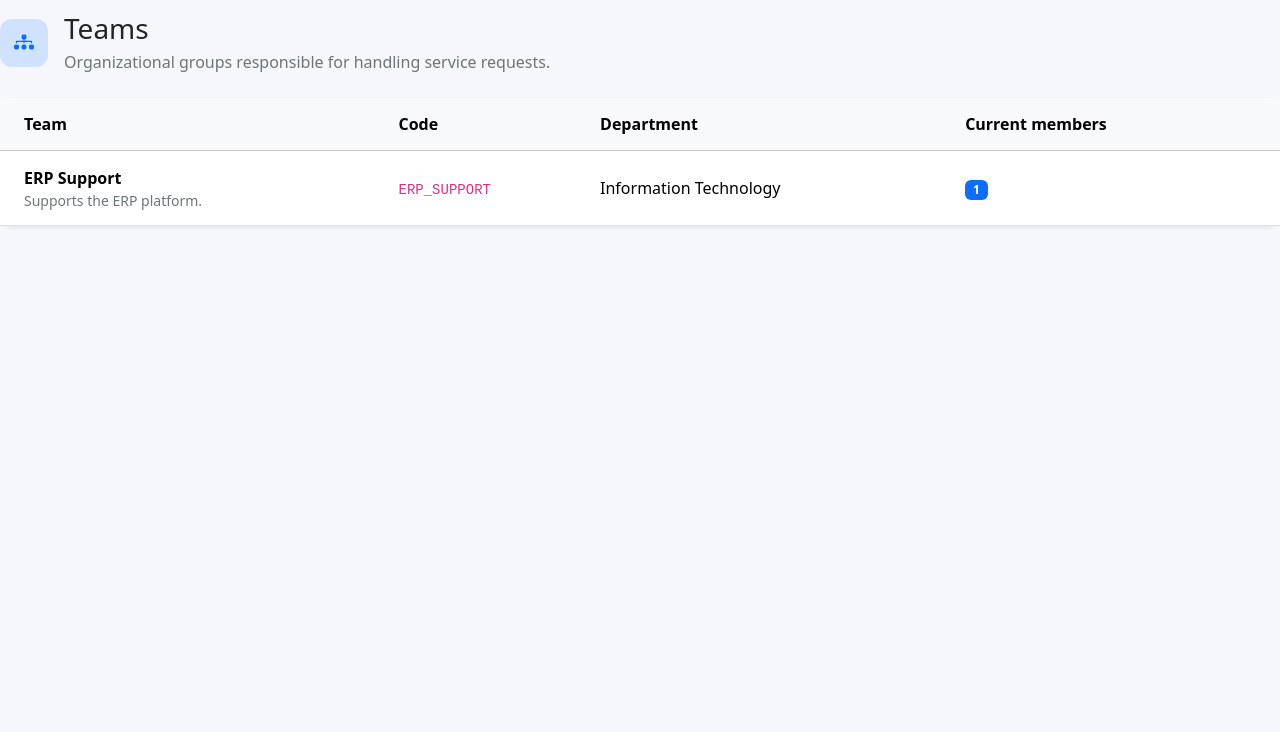
Scenario: opens a team profile by clicking its row
Click the link with aria-label "View ERP Support's profile" at point(640, 188), box 0,151 -> 1279,226
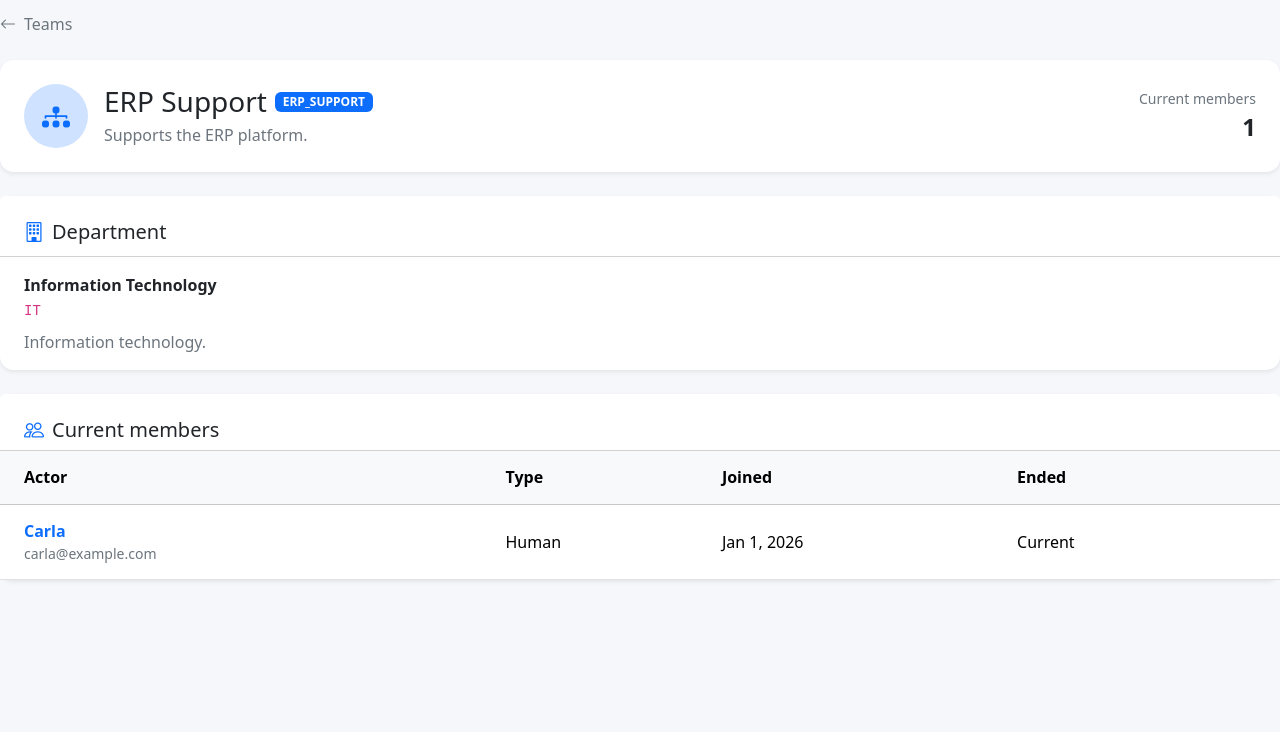
Expected: the heading "ERP Support" is shown, 104,85 -> 267,119
Expected: the link "Carla" is shown, 24,520 -> 66,542
